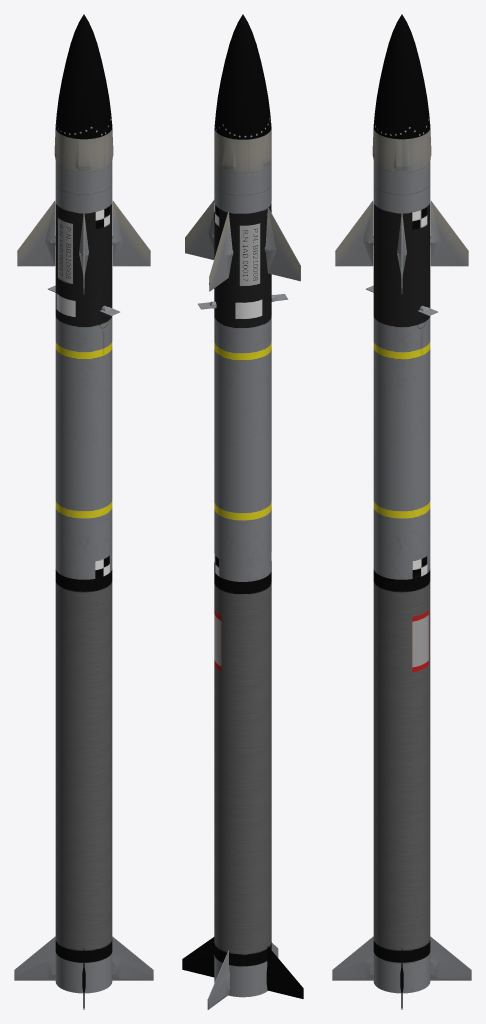
The model's file is tamir-irondome.glb.
3 renders of one model, left to right at view 1: azimuth 90°, elevation 25°; view 2: azimuth 150°, elevation 25°; view 3: azimuth 270°, elevation 25°, orthographic.
Parts seen in each view (by area): view 1: Cylinder.003, Cylinder.004, Cylinder.002, Cube.009, Cube, Cylinder, Cube.001; view 2: Cylinder.003, Cylinder.004, Cylinder.002, Cube.001, Cube.002, Cylinder, Cube.009, Cube; view 3: Cylinder.003, Cylinder.004, Cylinder.002, Cube.009, Cube, Cylinder, Cube.001.
Part boxes in pixels (x1=…): Cylinder.003: x1=54, y1=128, x2=113, y2=579; Cylinder.004: x1=55, y1=569, x2=112, y2=962; Cylinder.002: x1=55, y1=14, x2=112, y2=139; Cube.009: x1=17, y1=201, x2=150, y2=266; Cube: x1=14, y1=936, x2=153, y2=980; Cylinder: x1=55, y1=952, x2=112, y2=993; Cube.001: x1=79, y1=213, x2=88, y2=293; Cylinder.003: x1=214, y1=127, x2=271, y2=581; Cylinder.004: x1=214, y1=569, x2=271, y2=966; Cylinder.002: x1=214, y1=14, x2=271, y2=139; Cube.001: x1=185, y1=200, x2=300, y2=281; Cube.002: x1=182, y1=937, x2=303, y2=998; Cylinder: x1=214, y1=955, x2=267, y2=997; Cube.009: x1=209, y1=212, x2=233, y2=291; Cube: x1=207, y1=942, x2=278, y2=1009; Cylinder.003: x1=372, y1=128, x2=431, y2=579; Cylinder.004: x1=373, y1=569, x2=430, y2=962; Cylinder.002: x1=373, y1=14, x2=430, y2=139; Cube.009: x1=335, y1=201, x2=468, y2=266; Cube: x1=332, y1=936, x2=471, y2=980; Cylinder: x1=373, y1=952, x2=430, y2=993; Cube.001: x1=397, y1=213, x2=406, y2=293.
Size of the model in its own units: 0.3909 by 3 by 0.3909.
3 materials, 3 textured.
